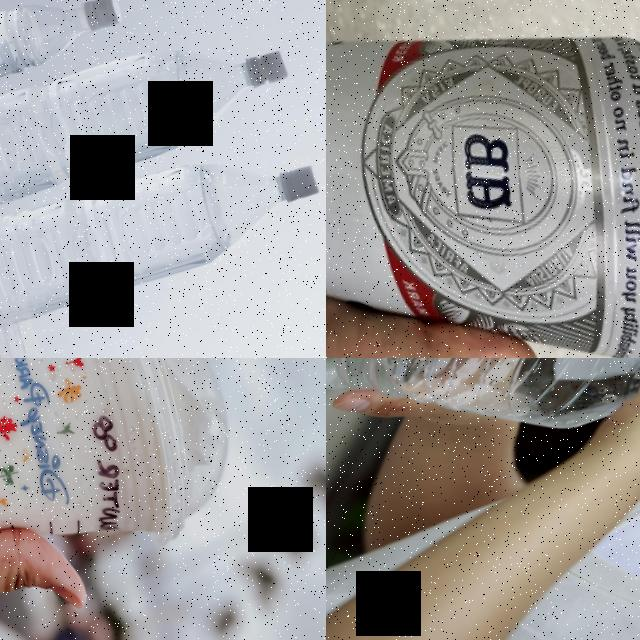bottle: (0, 123, 326, 358), (0, 12, 301, 245), (326, 358, 640, 523), (0, 0, 128, 130)
can: (326, 0, 640, 358)
cup: (0, 358, 259, 618)
